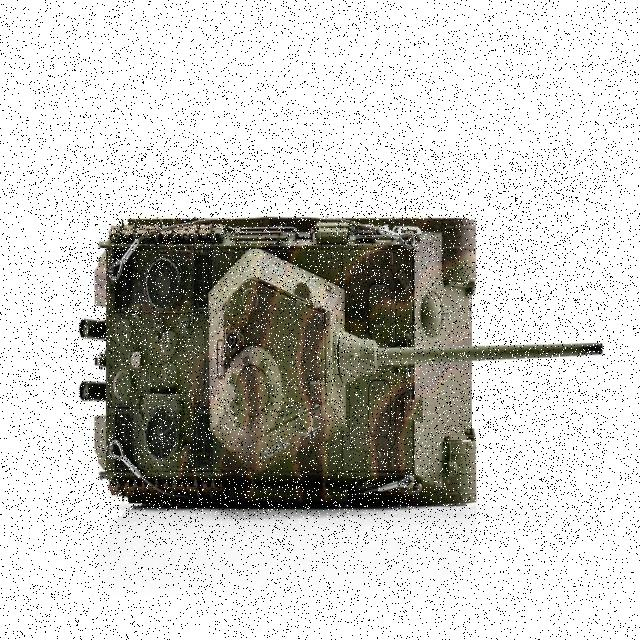MIL_MBT: (66, 147, 608, 545)
